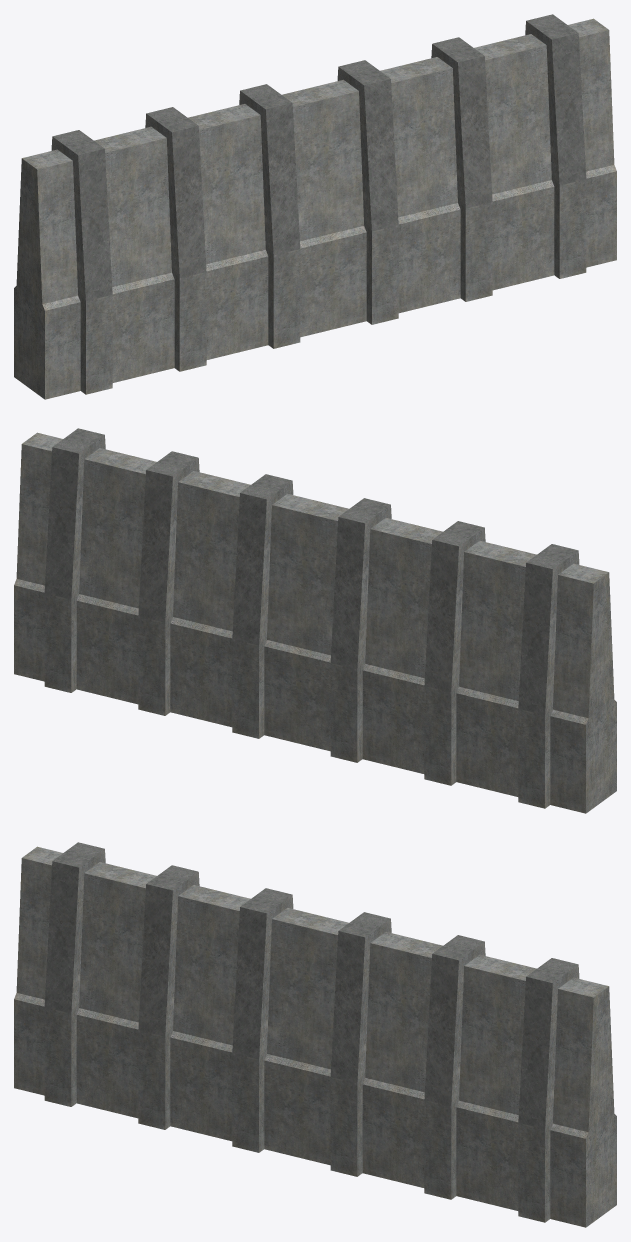
The model's file is mun_all_military_wall_med_impl_16_s01_l0.fbx.
3 views of the same model, one above another, from view 1: azimuth 30°, elevation 25°; view 2: azimuth 150°, elevation 25°; view 3: azimuth 330°, elevation 25° (orthographic).
Visible parts, largest first — view 1: mesh_node; view 2: mesh_node; view 3: mesh_node.
Boxes of the visible parts, x1,y1,x2,y2 form: mesh_node: [14, 14, 616, 399]; mesh_node: [14, 428, 616, 813]; mesh_node: [14, 842, 616, 1227].
Size of the model in its own units: 16 by 6.25 by 2.
